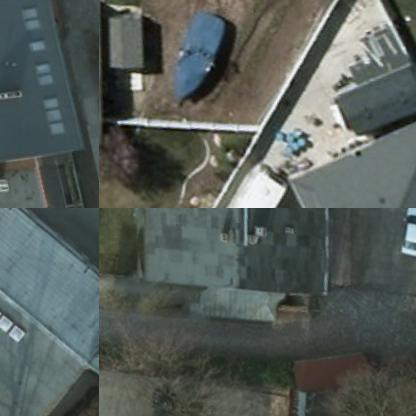boat: (144, 0, 249, 122)
camping car: (178, 139, 311, 207)
car: (396, 208, 415, 253)
